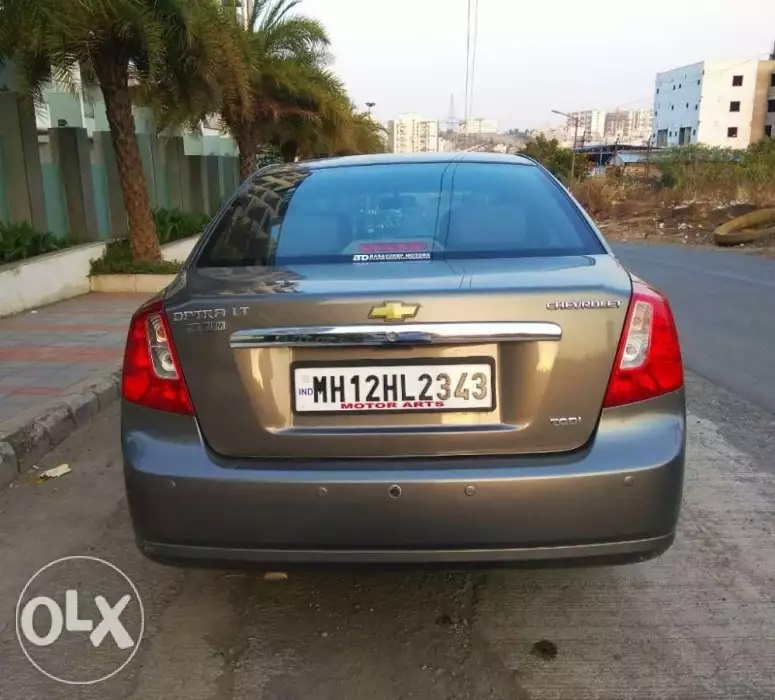licenseplate: (288, 355, 503, 420)
